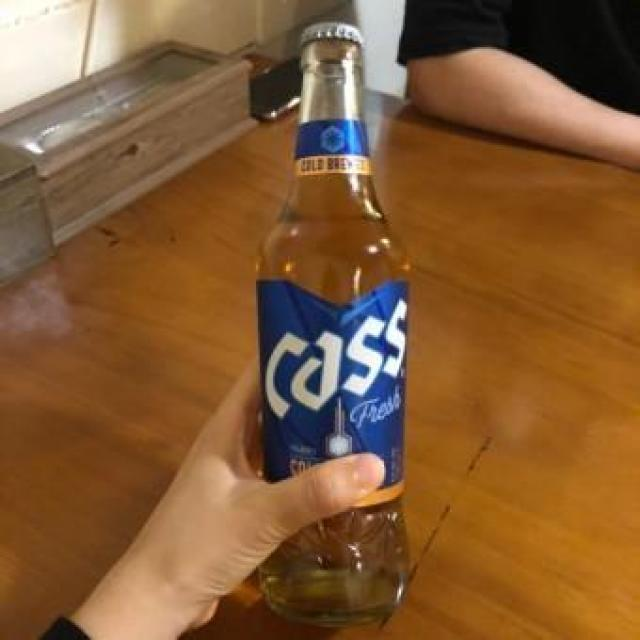beer-bottle: (242, 19, 425, 634)
